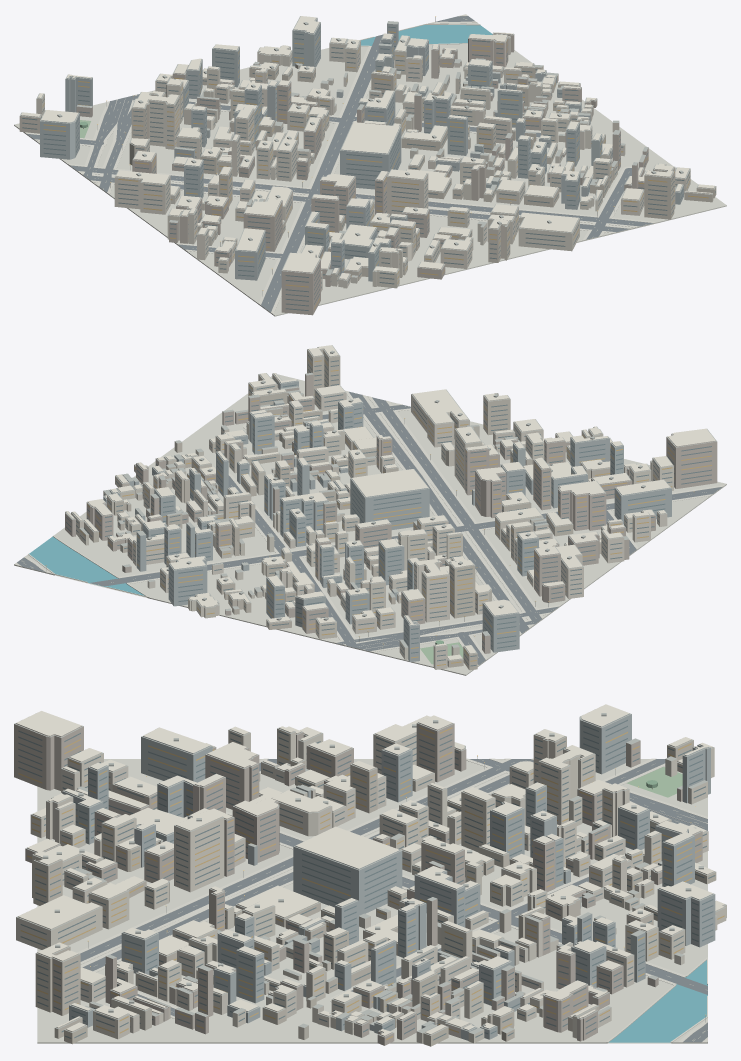
3 renders of one model, top to bottom at view 1: azimuth 30°, elevation 25°; view 2: azimuth 150°, elevation 25°; view 3: azimuth 270°, elevation 25°, orthographic. The views are drawn at different scales.
Parts seen in each view (by area): view 1: city; view 2: city; view 3: city.
Boxes of the visible parts, bbox=[...] form: city: bbox=[14, 14, 726, 316]; city: bbox=[14, 345, 726, 675]; city: bbox=[14, 704, 726, 1046].
Bounding box in the file's own units: 523 × 55.65 × 532.
